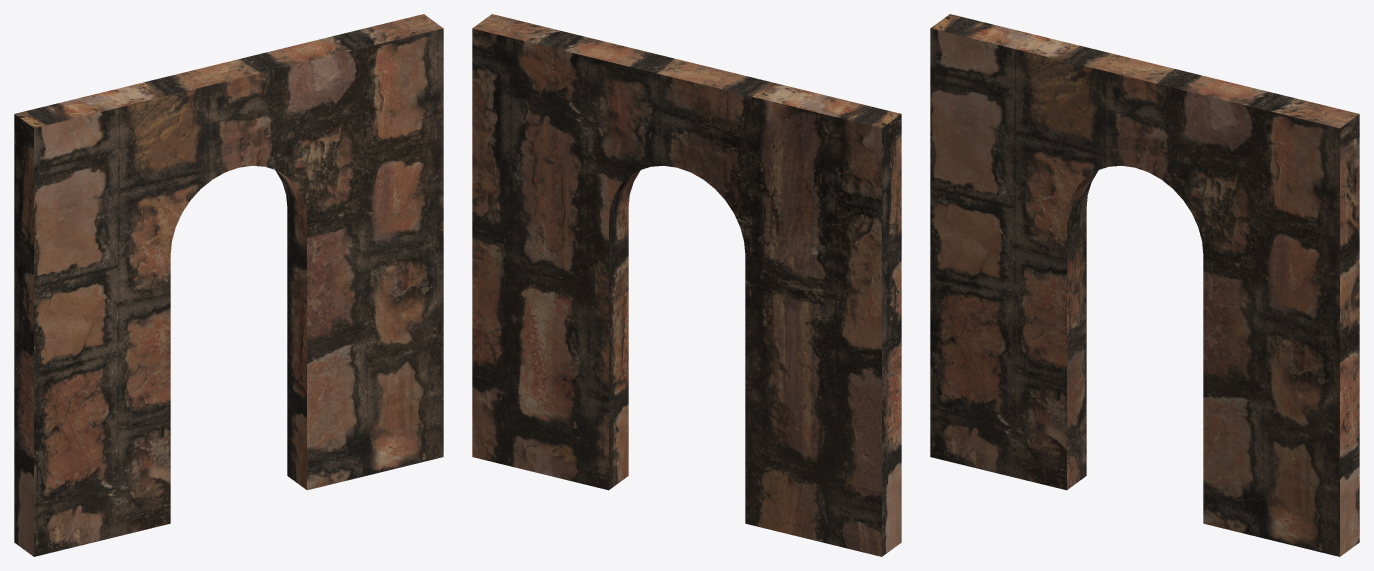
The model's file is Arc.fbx.
3 renders of one model, left to right at view 1: azimuth 30°, elevation 25°; view 2: azimuth 150°, elevation 25°; view 3: azimuth 330°, elevation 25°, orthographic.
Parts seen in each view (by area): view 1: Cube.014; view 2: Cube.014; view 3: Cube.014.
Part boxes in pixels (<box>): Cube.014: <box>14,14,443,556</box>; Cube.014: <box>472,14,901,556</box>; Cube.014: <box>930,14,1359,556</box>.
Bounding box in the file's own units: 6 × 6 × 0.5.
